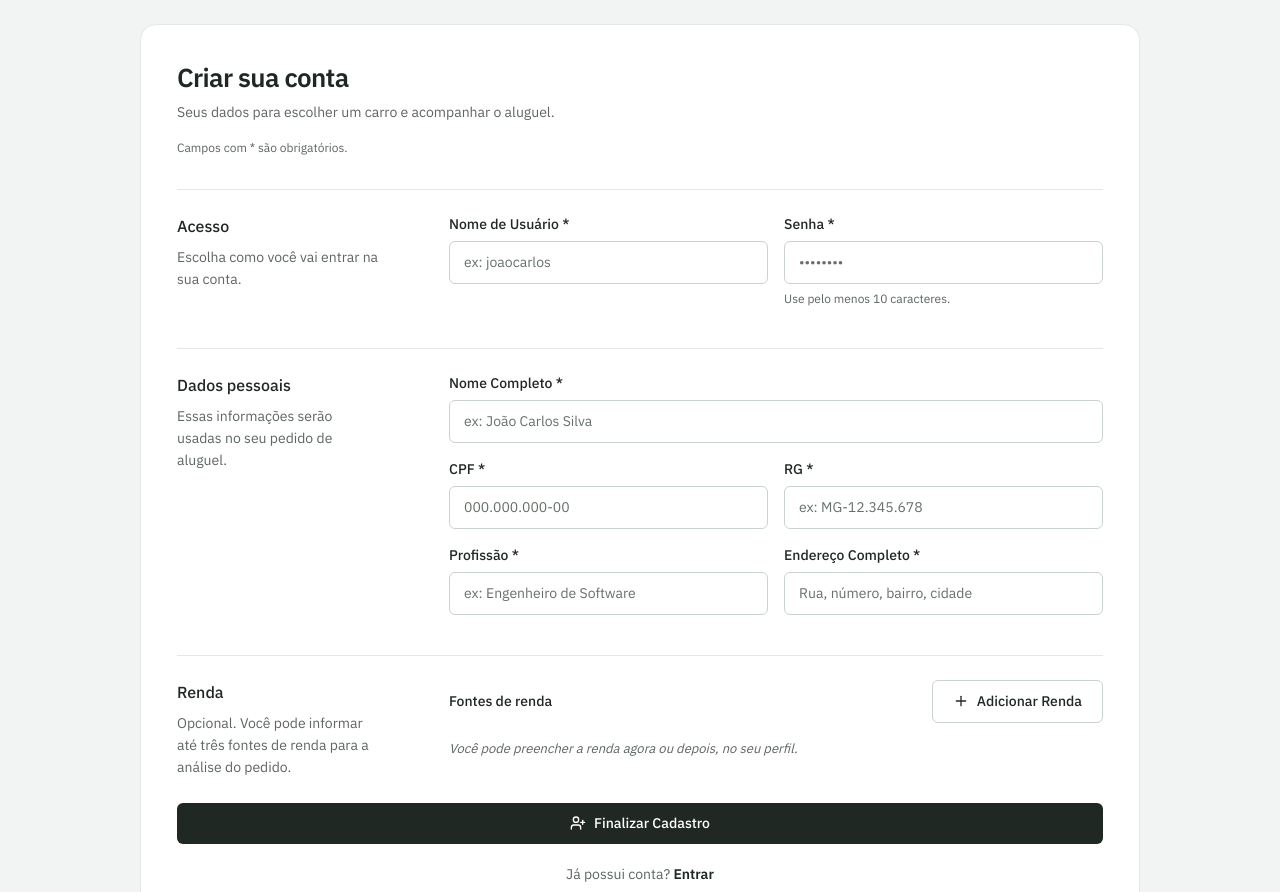
Test case: Frontend Component Tests › Cadastro Form › permite adicionar até 3 vínculos de emprego e remove quando solicitado
Expected: the heading "Criar sua conta" is shown, [177,60,348,94]
Expected: the text "Você pode preencher a renda agora ou depois, no seu perfil." is shown, [449,740,798,756]
// Adiciona 1º
Click the button "Adicionar Renda" at (1017, 701), box [932,680,1103,722]
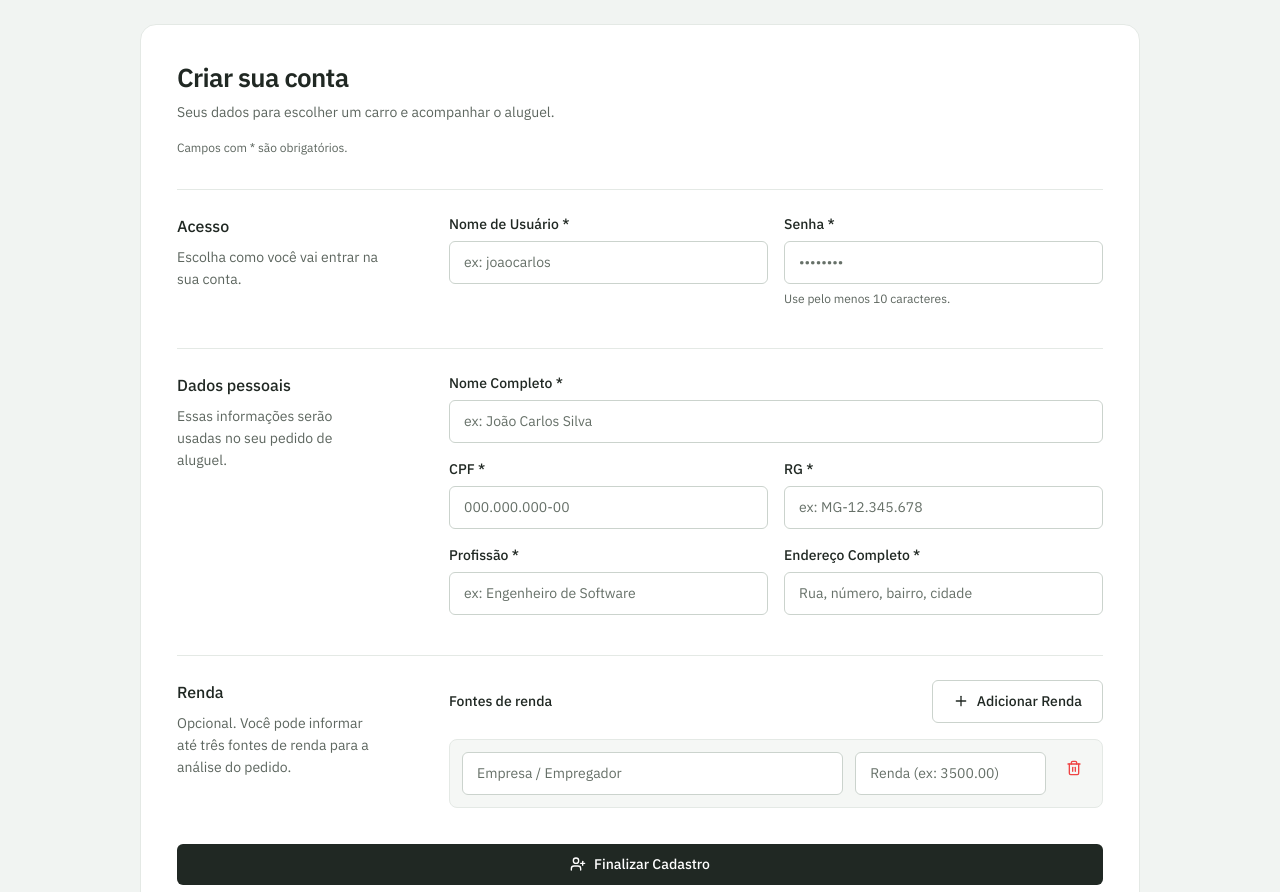
Expected: the number of fields with placeholder "Empresa / Empregador" is 1, [462,752,843,794]
// Adiciona 2º
Click the button "Adicionar Renda" at (1017, 701), box [932,680,1103,722]
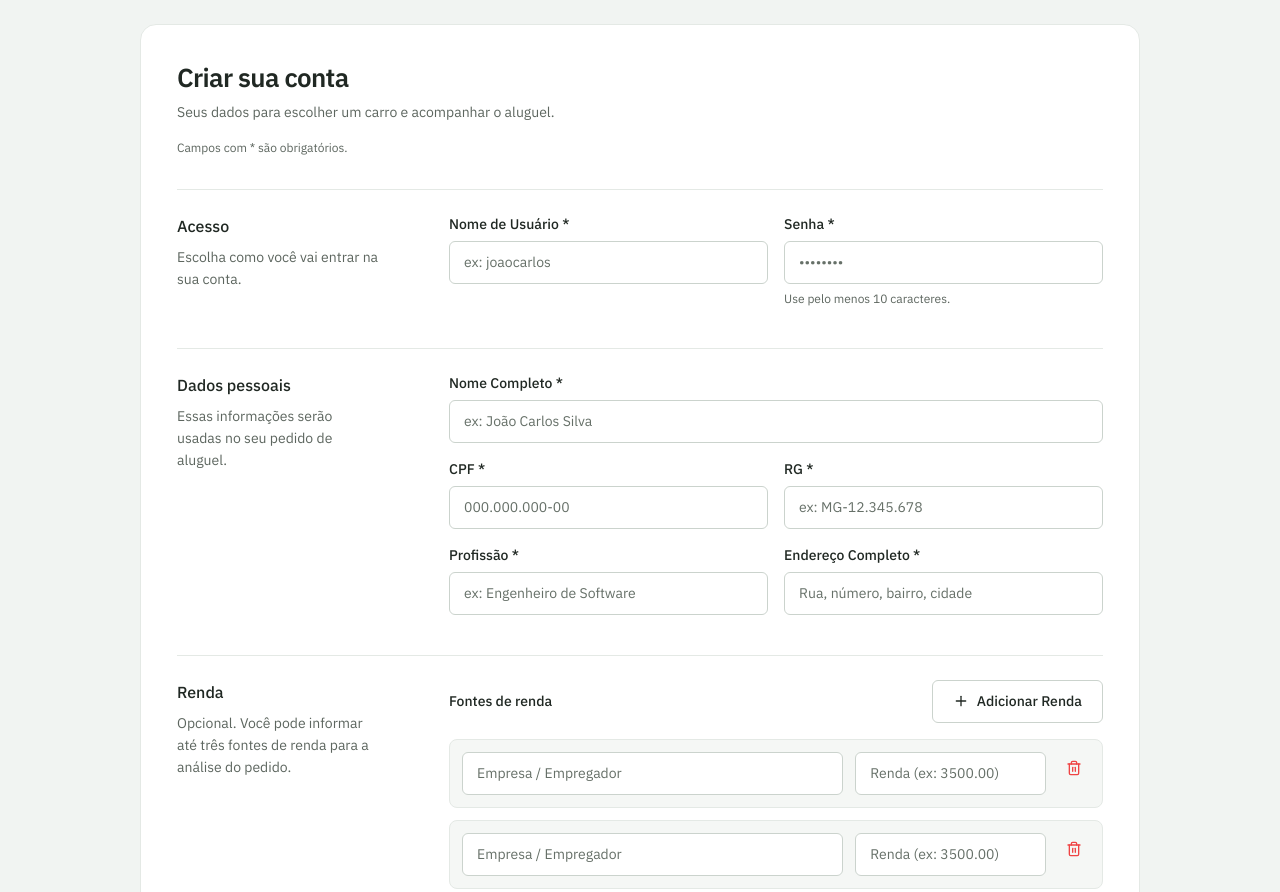
Expected: the number of fields with placeholder "Empresa / Empregador" is 2, [462,752,843,794]; [462,832,843,876]
// Adiciona 3º (máximo)
Click the button "Adicionar Renda" at (1017, 701), box [932,680,1103,722]
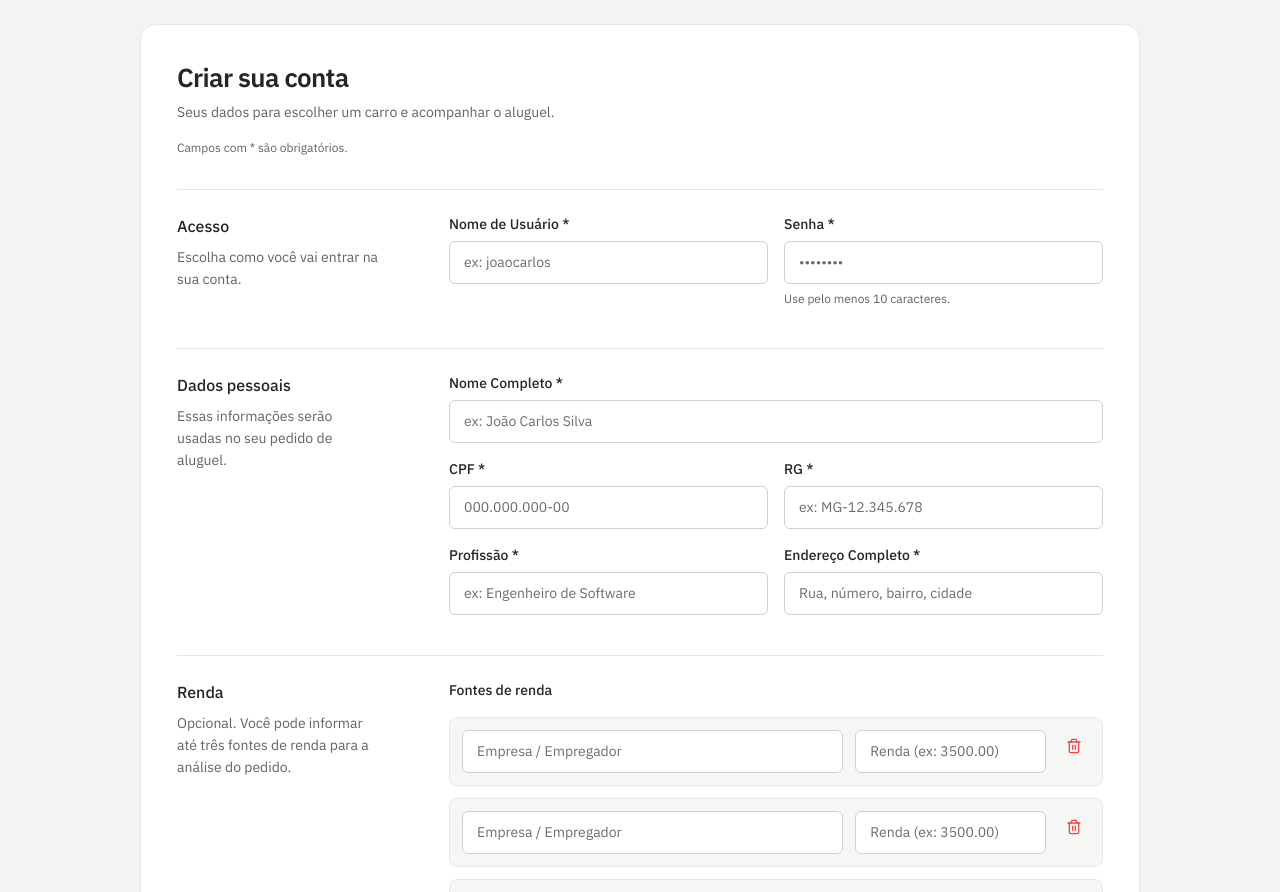
Expected: the button "Adicionar Renda" is gone
// Remove um
Click the 1st button named "Remover fonte de renda" at (1074, 748), box [1058,730,1090,768]
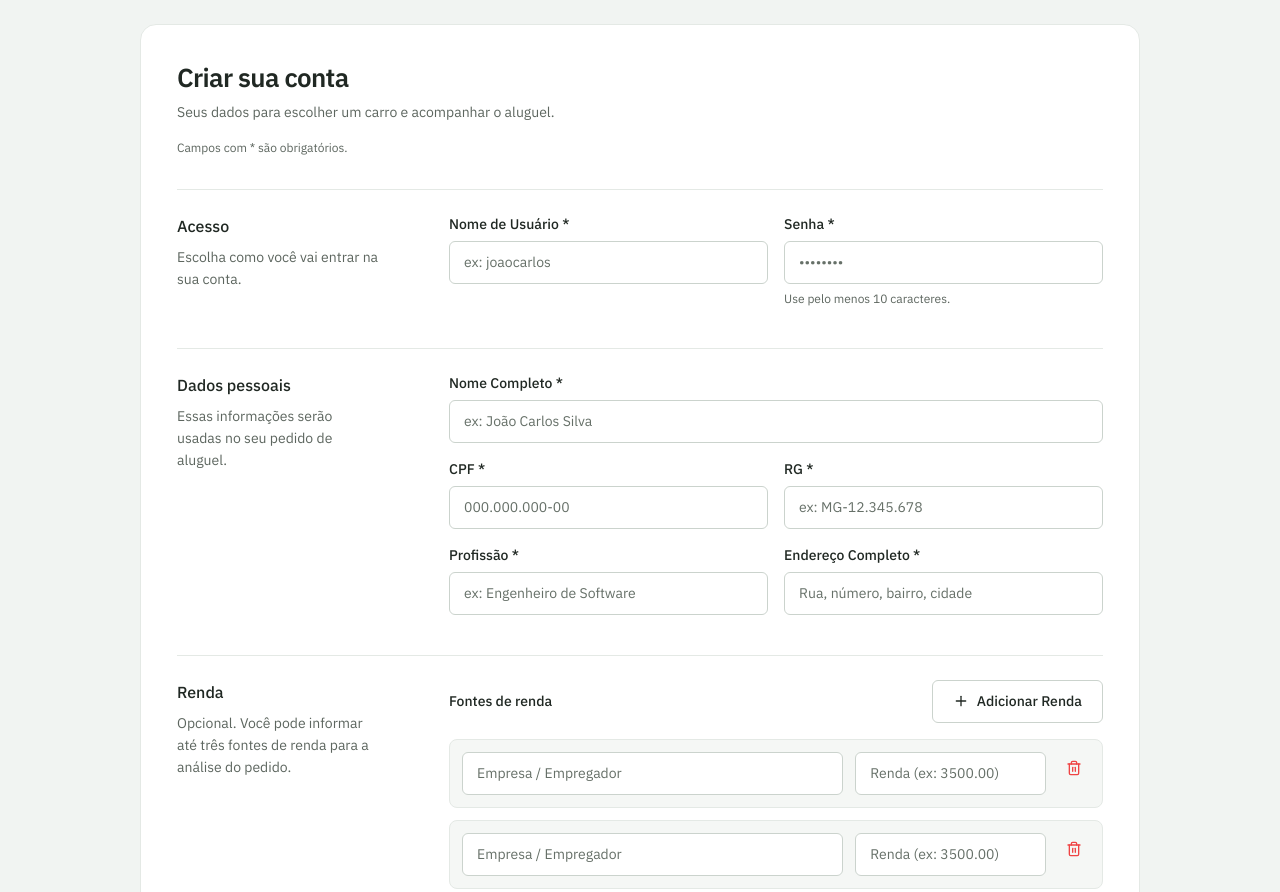
Expected: the number of fields with placeholder "Empresa / Empregador" is 2, [462,752,843,794]; [462,832,843,876]
Expected: the button "Adicionar Renda" is shown, [932,680,1103,722]
